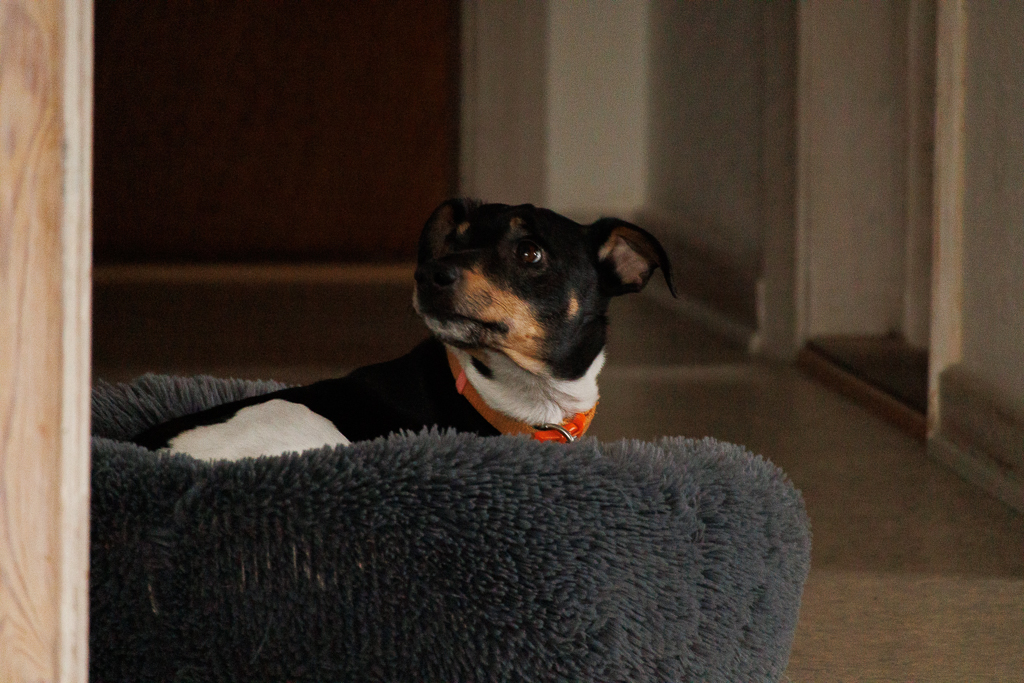Dog: (96, 184, 692, 473)
